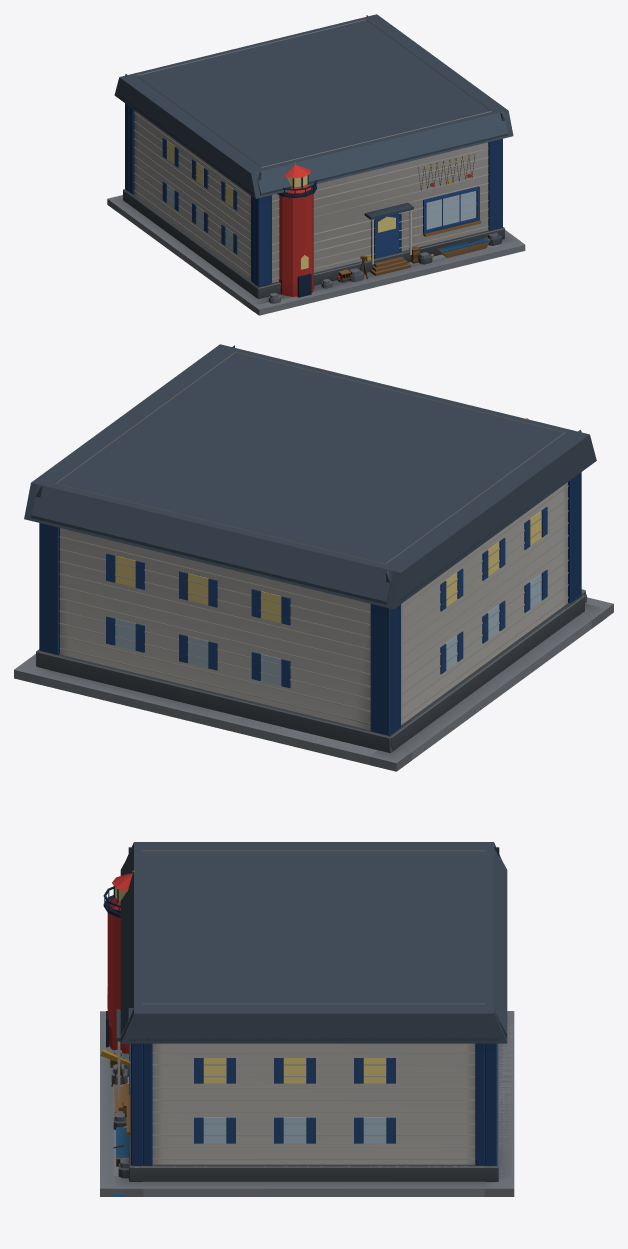
Rendered from MeerkatLookoutFloor.fbx.
The picture shows the model from 3 angles, top to bottom: view 1: azimuth 30°, elevation 25°; view 2: azimuth 150°, elevation 25°; view 3: azimuth 270°, elevation 25°; orthographic projection. The views are drawn at different scales.
Visible parts, largest first — view 1: LH_S_All, LH_F_Rings, LH_F_Smooth, LH_F_Quiet, LH_F_Glass, LH_F_Props; view 2: LH_S_All, LH_F_Rings, LH_F_Smooth, LH_F_Quiet, LH_F_Glass; view 3: LH_S_All, LH_F_Rings, LH_F_Smooth, LH_F_Quiet, LH_F_Glass, LH_F_Props.
Part boxes in pixels (bbox=[...]): LH_S_All: bbox=[107, 14, 520, 304]; LH_F_Rings: bbox=[125, 15, 508, 296]; LH_F_Smooth: bbox=[107, 94, 525, 315]; LH_F_Quiet: bbox=[108, 189, 524, 309]; LH_F_Glass: bbox=[167, 140, 476, 269]; LH_F_Props: bbox=[268, 165, 501, 303]; LH_S_All: bbox=[15, 344, 606, 771]; LH_F_Rings: bbox=[31, 345, 581, 735]; LH_F_Smooth: bbox=[14, 418, 613, 771]; LH_F_Quiet: bbox=[14, 595, 613, 762]; LH_F_Glass: bbox=[115, 511, 541, 685]; LH_S_All: bbox=[107, 842, 514, 1196]; LH_F_Rings: bbox=[108, 846, 507, 1166]; LH_F_Smooth: bbox=[100, 870, 513, 1196]; LH_F_Quiet: bbox=[100, 1011, 513, 1188]; LH_F_Glass: bbox=[107, 887, 385, 1196]; LH_F_Props: bbox=[101, 873, 134, 1178].
Bounding box in the file's own units: 60 × 20 × 60.
